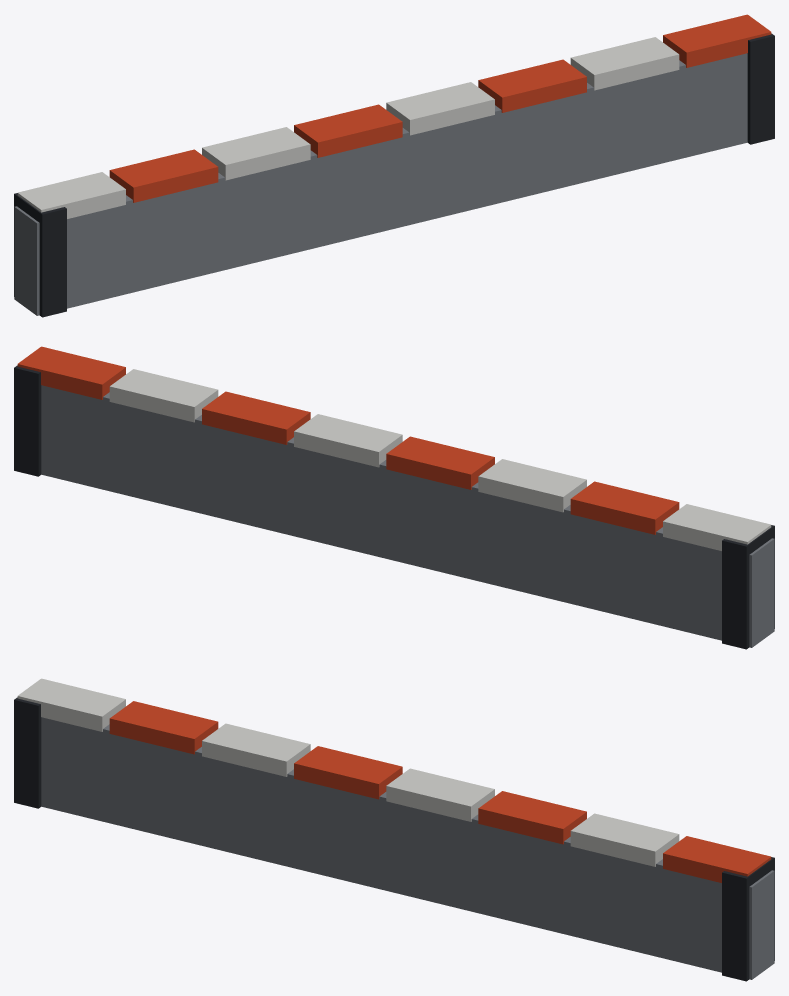
Rendered from mobile.glb.
3 renders of one model, top to bottom at view 1: azimuth 30°, elevation 25°; view 2: azimuth 150°, elevation 25°; view 3: azimuth 330°, elevation 25°, orthographic.
Parts seen in each view (by area): view 1: county-barrier; view 2: county-barrier; view 3: county-barrier.
Boxes of the visible parts, x1,y1,x2,y2 form: county-barrier: [14, 14, 774, 317]; county-barrier: [14, 346, 774, 649]; county-barrier: [14, 678, 774, 981].
Bounding box in the file's own units: 15 × 2.05 × 1.
